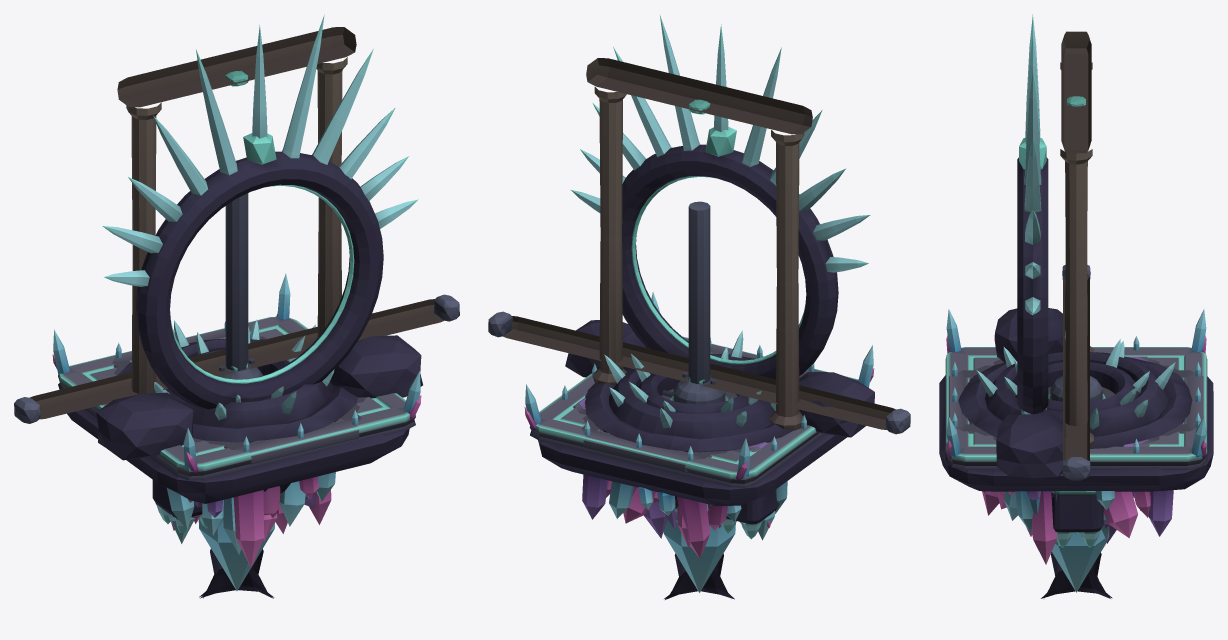
File: caverns-1-CZ_u1ysc.glb
The picture shows the model from 3 angles, left to right: view 1: azimuth 30°, elevation 25°; view 2: azimuth 150°, elevation 25°; view 3: azimuth 270°, elevation 25°; orthographic projection. The views are drawn at different scales.
Visible parts, largest first — view 1: portal_#0, pad_12x2x12#0, pressFrame_7.5x6x2.5x7#0, mount_10.6#0, geyserVent_6#0, press_7.5x6x2.5#0, block_7x2x12#0, block_8x2x10#0, disc_10x1.5#0, support_0_round#0, geyserVent_3.9#0, block_7x2x7#0 (+2 smaller); view 2: portal_#0, pressFrame_7.5x6x2.5x7#0, pad_12x2x12#0, geyserVent_6#0, mount_10.6#0, press_7.5x6x2.5#0, block_7x2x12#0, disc_10x1.5#0, geyserVent_3.9#0, block_8x2x10#0, barHub_7x1.2#0, support_1_round#0; view 3: pad_12x2x12#0, portal_#0, pressFrame_7.5x6x2.5x7#0, geyserVent_6#0, disc_10x1.5#0, geyserVent_3.9#0, mount_10.6#0, press_7.5x6x2.5#0, block_7x2x12#0, block_8x2x7#0, block_8x2x10#0, support_1_round#0 (+2 smaller).
Part boxes in pixels (x1,y1,x2,y2): portal_#0: (96,14,422,460); pad_12x2x12#0: (52,273,421,535); pressFrame_7.5x6x2.5x7#0: (117,27,356,393); mount_10.6#0: (14,294,459,423); geyserVent_6#0: (117,319,357,442); press_7.5x6x2.5#0: (152,193,248,532); block_7x2x12#0: (112,328,361,493); block_8x2x10#0: (114,336,359,567); disc_10x1.5#0: (170,492,317,590); support_0_round#0: (200,549,273,598); geyserVent_3.9#0: (192,326,305,402); block_7x2x7#0: (279,481,305,526); portal_#0: (565,15,874,437); pressFrame_7.5x6x2.5x7#0: (586,58,812,430); pad_12x2x12#0: (524,291,874,530); geyserVent_6#0: (585,330,800,452); mount_10.6#0: (488,311,910,434); press_7.5x6x2.5#0: (688,201,779,539); block_7x2x12#0: (581,344,814,558); disc_10x1.5#0: (623,486,771,592); geyserVent_3.9#0: (629,346,761,413); block_8x2x10#0: (582,415,727,519); barHub_7x1.2#0: (662,375,728,404); support_1_round#0: (664,554,733,598); pad_12x2x12#0: (939,309,1213,492); portal_#0: (994,14,1066,478); pressFrame_7.5x6x2.5x7#0: (1060,31,1093,446); geyserVent_6#0: (958,330,1192,448); disc_10x1.5#0: (997,491,1137,592); geyserVent_3.9#0: (1004,339,1149,411); mount_10.6#0: (1062,265,1090,480); press_7.5x6x2.5#0: (1051,491,1103,547); block_7x2x12#0: (945,370,1207,510); block_8x2x7#0: (1015,491,1057,564); block_8x2x10#0: (969,365,1183,536); support_1_round#0: (1041,553,1112,598).
Size of the model in its own units: 22.1 by 29.02 by 12.59.
